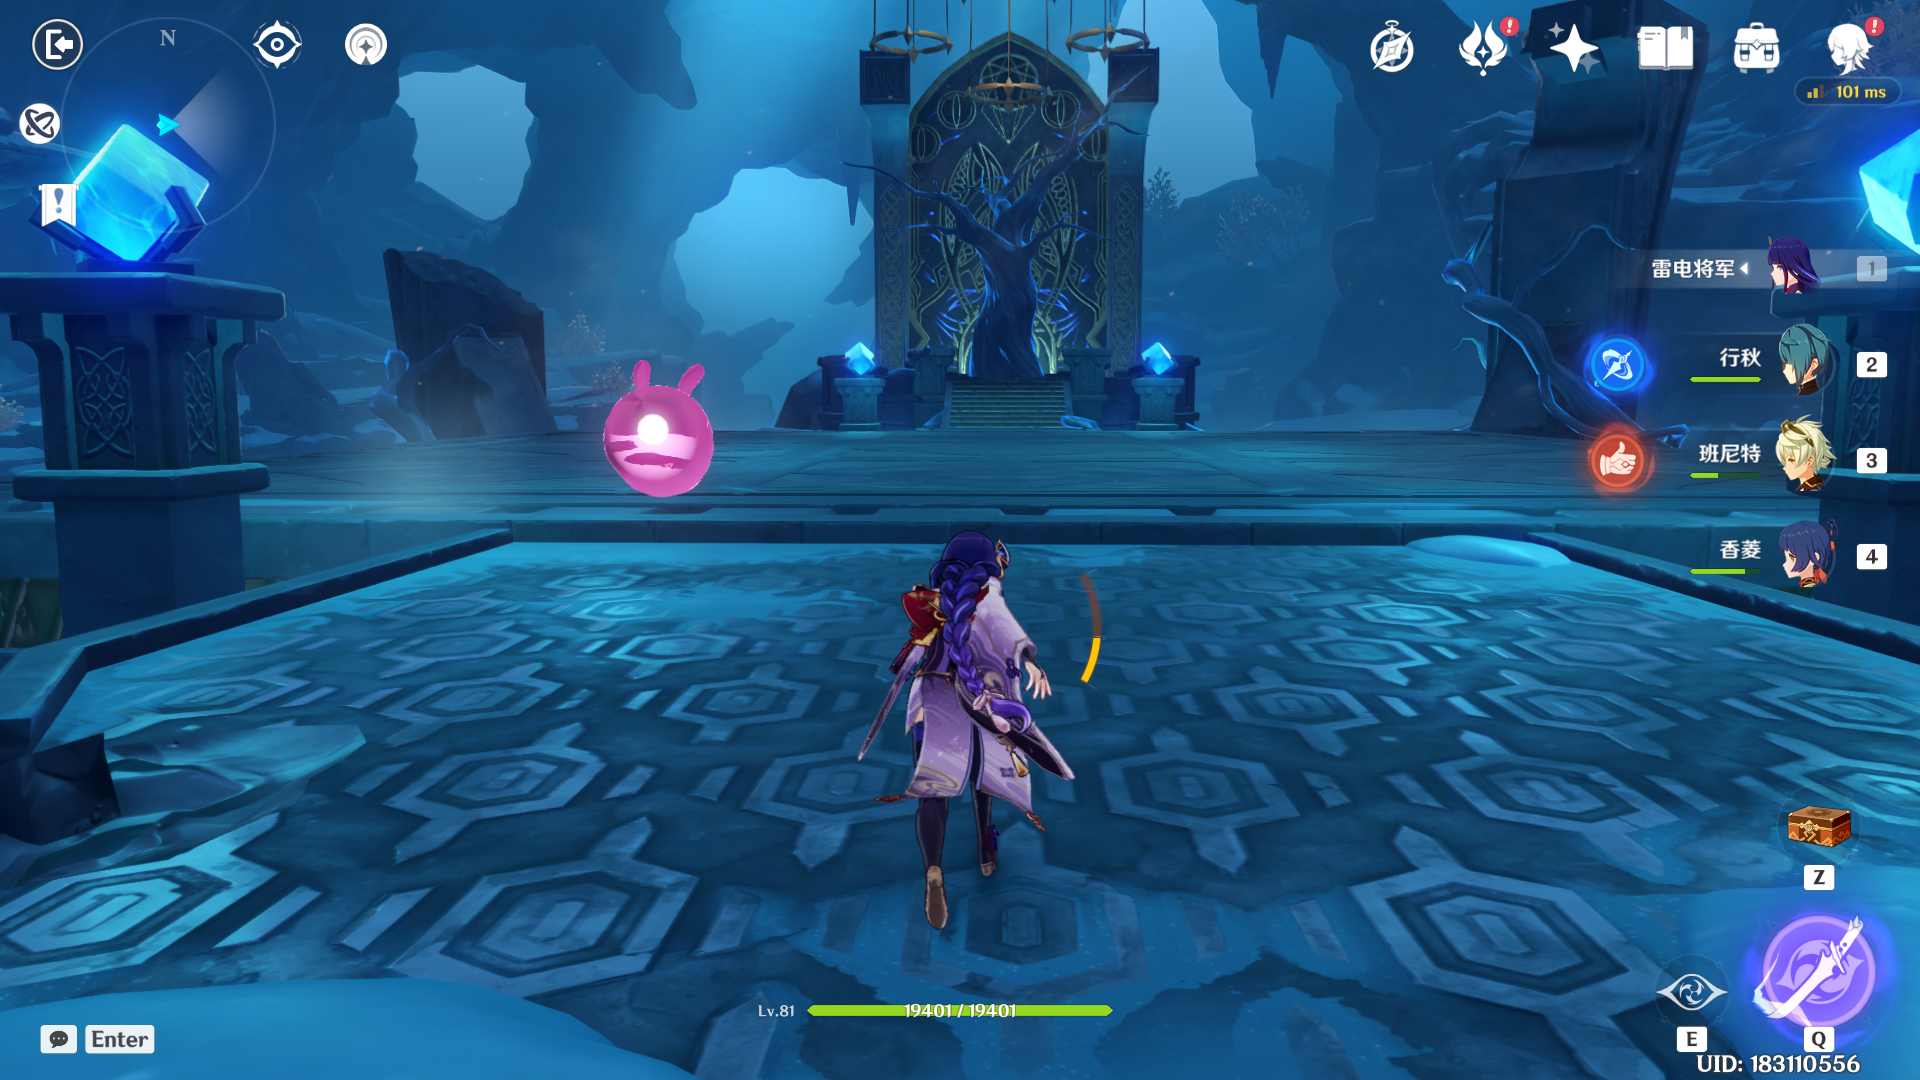character: (812, 492, 1116, 945)
